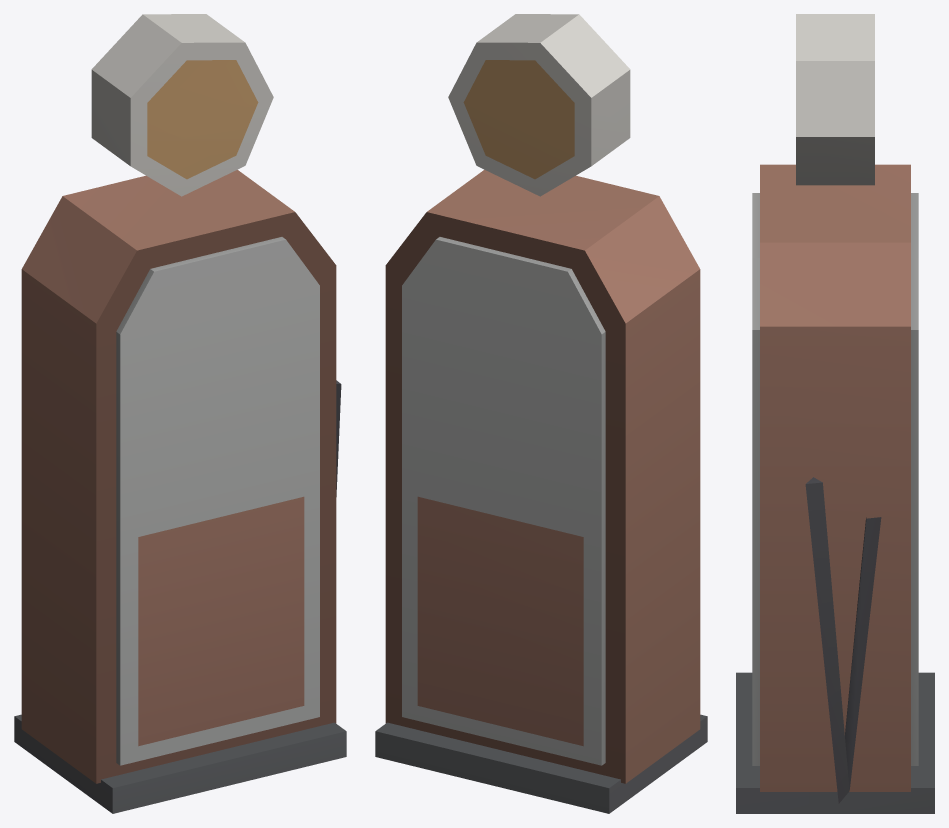
The model's file is pump.lod2.glb.
The picture shows the model from 3 angles, left to right: view 1: azimuth 30°, elevation 25°; view 2: azimuth 150°, elevation 25°; view 3: azimuth 270°, elevation 25°; orthographic projection.
Size of the model in its own units: 0.8808 by 2.25 by 0.554.
